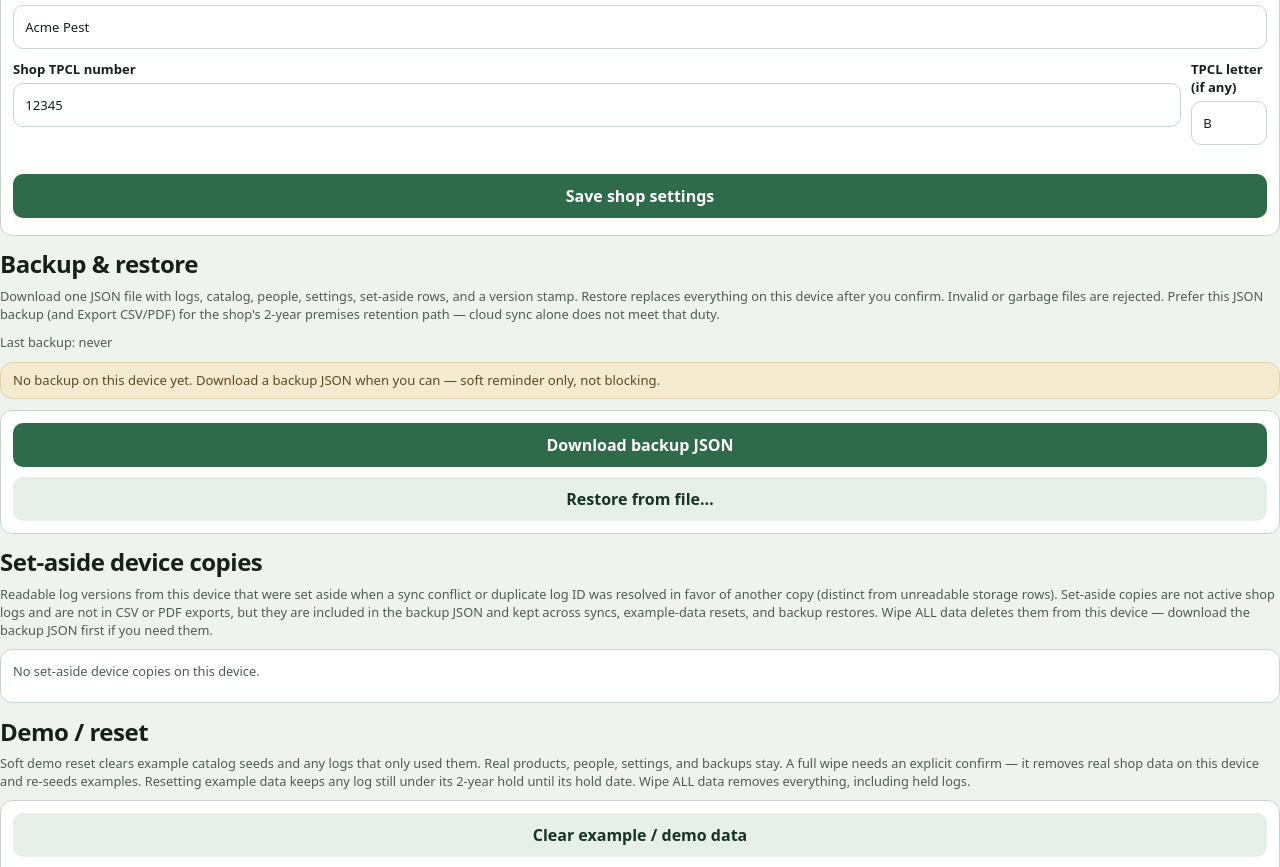
Settings backup: download (shared shop) › a failed pull downloads the local copy and shows an alert naming the shop
(page scrolled)
Click the button "Download backup JSON" at point(640, 445), box 13,423 -> 1267,467
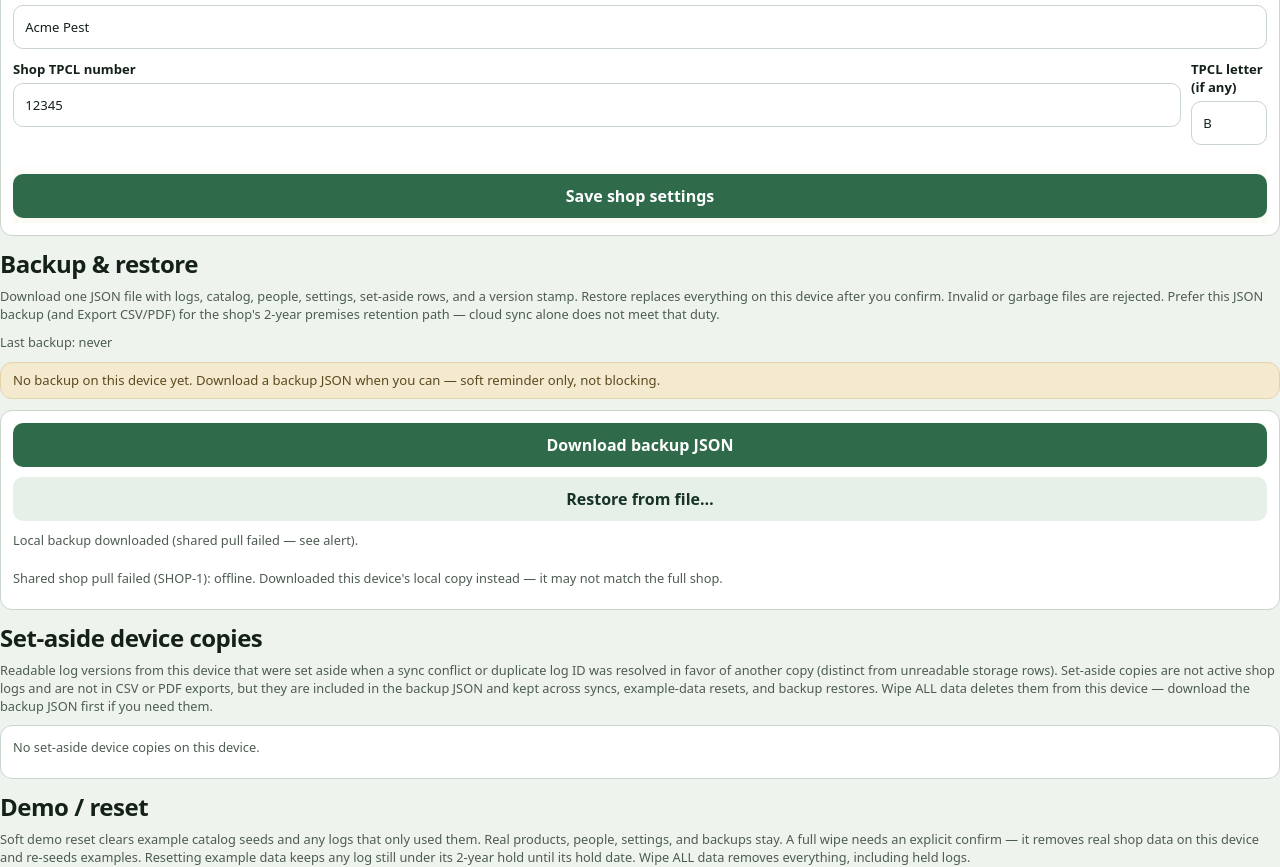
expect the 4th message shows "Shared shop pull failed (SHOP-1): offline.": met, box 13,568 -> 723,586
expect the text "Local backup downloaded (shared pull failed — see alert)." is shown: met, box 13,531 -> 358,549
